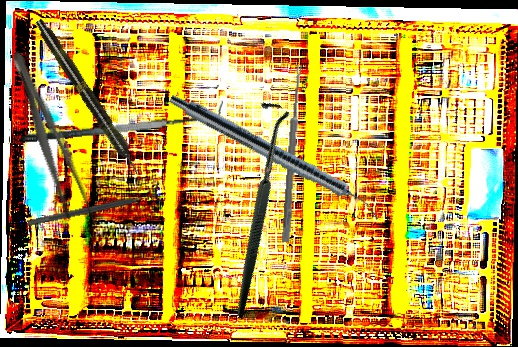Dressing Forceps: (0, 46, 101, 234)
Fixation Ring: (25, 181, 164, 235)
Handpiece: (164, 90, 387, 222), (31, 16, 145, 178)
Hook Surgical: (148, 95, 362, 320)
Spatula Surgical: (19, 100, 225, 144)
Surgical Spoon: (281, 64, 304, 243)
